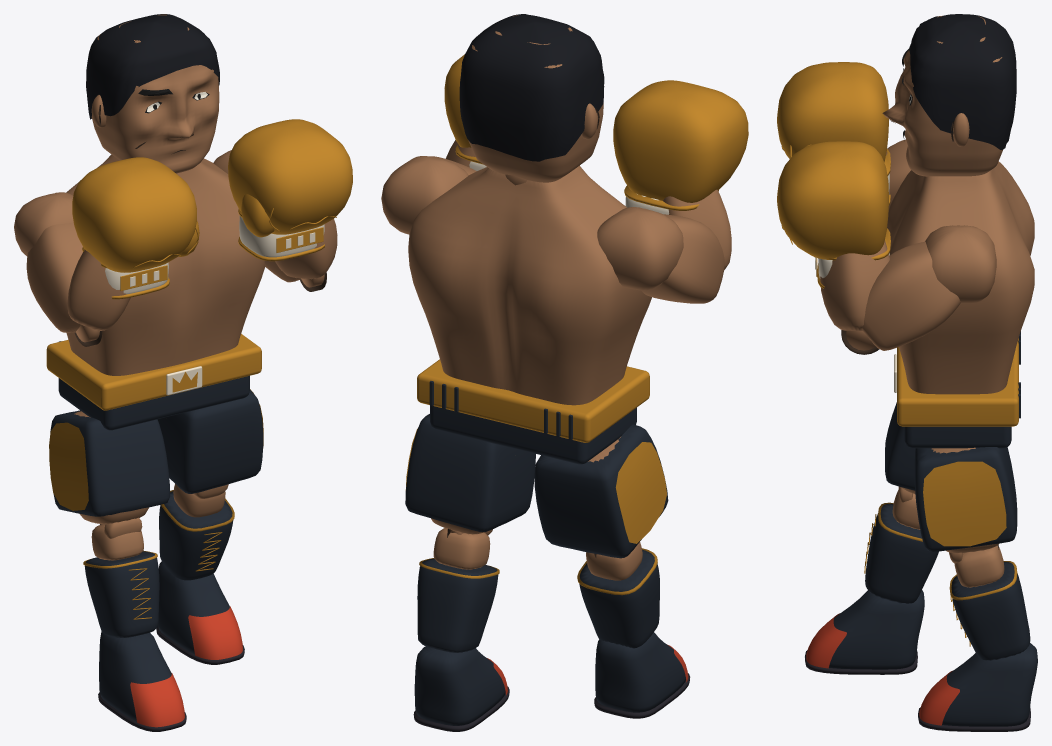
File: brick.glb
The picture shows the model from 3 angles, left to right: view 1: azimuth 30°, elevation 25°; view 2: azimuth 150°, elevation 25°; view 3: azimuth 270°, elevation 25°; orthographic projection. The views are drawn at different scales.
Visible parts, largest first — view 1: Mould assembly Body.002 Bram bronze plastic, Mould assembly GloveR.002 Bram ochre gloves, Mould assembly GloveL.002 Bram ochre gloves, Mould assembly Head.002 Bram bronze plastic, Mould assembly Head.002 Black lacquered curls, Mould assembly LegUpperR.002 Charcoal trunks, Mould assembly LegUpperL.002 Charcoal trunks, Mould assembly Hips.002 Bram ochre gloves, Mould assembly LegLowerL.002 Charcoal trunks, Mould assembly LegLowerR.002 Charcoal trunks, Mould assembly ArmUpperL.002 Bram bronze plastic, Mould assembly FootL.002 Charcoal trunks (+15 smaller); view 2: Mould assembly Body.002 Bram bronze plastic, Mould assembly Head.002 Black lacquered curls, Mould assembly GloveL.002 Bram ochre gloves, Mould assembly LegUpperR.002 Charcoal trunks, Mould assembly LegUpperL.002 Charcoal trunks, Mould assembly Hips.002 Bram ochre gloves, Mould assembly LegLowerR.002 Charcoal trunks, Mould assembly FootR.002 Charcoal trunks, Mould assembly FootL.002 Charcoal trunks, Mould assembly Hips.002 Charcoal trunks, Mould assembly LegLowerL.002 Charcoal trunks, Mould assembly ArmUpperL.002 Bram bronze plastic (+8 smaller); view 3: Mould assembly Body.002 Bram bronze plastic, Mould assembly GloveR.002 Bram ochre gloves, Mould assembly Head.002 Black lacquered curls, Mould assembly GloveL.002 Bram ochre gloves, Mould assembly ArmUpperR.002 Bram bronze plastic, Mould assembly LegUpperR.002 Bram ochre gloves, Mould assembly FootR.002 Charcoal trunks, Mould assembly FootL.002 Charcoal trunks, Mould assembly Head.002 Bram bronze plastic, Mould assembly LegLowerR.002 Charcoal trunks, Mould assembly Hips.002 Bram ochre gloves, Mould assembly LegLowerL.002 Charcoal trunks (+12 smaller).
Boxes of the visible parts, x1,y1,x2,y2 form: Mould assembly Body.002 Bram bronze plastic: (14, 150, 265, 375); Mould assembly GloveR.002 Bram ochre gloves: (228, 119, 352, 261); Mould assembly GloveL.002 Bram ochre gloves: (72, 157, 199, 299); Mould assembly Head.002 Bram bronze plastic: (91, 14, 219, 173); Mould assembly Head.002 Black lacquered curls: (86, 14, 219, 119); Mould assembly LegUpperR.002 Charcoal trunks: (157, 390, 263, 493); Mould assembly LegUpperL.002 Charcoal trunks: (50, 410, 169, 516); Mould assembly Hips.002 Bram ochre gloves: (46, 333, 261, 410); Mould assembly LegLowerL.002 Charcoal trunks: (84, 551, 159, 637); Mould assembly LegLowerR.002 Charcoal trunks: (159, 491, 233, 580); Mould assembly ArmUpperL.002 Bram bronze plastic: (26, 223, 82, 332); Mould assembly FootL.002 Charcoal trunks: (99, 631, 171, 721); Mould assembly Body.002 Bram bronze plastic: (381, 156, 683, 405); Mould assembly Head.002 Black lacquered curls: (459, 14, 604, 161); Mould assembly GloveL.002 Bram ochre gloves: (613, 80, 748, 210); Mould assembly LegUpperR.002 Charcoal trunks: (405, 414, 535, 531); Mould assembly LegUpperL.002 Charcoal trunks: (534, 424, 668, 558); Mould assembly Hips.002 Bram ochre gloves: (417, 359, 649, 442); Mould assembly LegLowerR.002 Charcoal trunks: (417, 558, 498, 652); Mould assembly FootR.002 Charcoal trunks: (414, 646, 505, 725); Mould assembly FootL.002 Charcoal trunks: (595, 632, 685, 712); Mould assembly Hips.002 Charcoal trunks: (429, 381, 636, 464); Mould assembly LegLowerL.002 Charcoal trunks: (579, 549, 659, 648); Mould assembly ArmUpperL.002 Bram bronze plastic: (642, 214, 724, 303); Mould assembly Body.002 Bram bronze plastic: (887, 161, 1034, 394); Mould assembly GloveR.002 Bram ochre gloves: (777, 141, 890, 288); Mould assembly Head.002 Black lacquered curls: (909, 14, 1016, 149); Mould assembly GloveL.002 Bram ochre gloves: (777, 62, 890, 204); Mould assembly ArmUpperR.002 Bram bronze plastic: (862, 241, 960, 350); Mould assembly LegUpperR.002 Bram ochre gloves: (923, 461, 1006, 546); Mould assembly FootR.002 Charcoal trunks: (942, 643, 1037, 726); Mould assembly FootL.002 Charcoal trunks: (829, 590, 924, 669); Mould assembly Head.002 Bram bronze plastic: (882, 15, 1002, 176); Mould assembly LegLowerR.002 Charcoal trunks: (951, 562, 1030, 660); Mould assembly Hips.002 Bram ochre gloves: (897, 338, 1018, 426); Mould assembly LegLowerL.002 Charcoal trunks: (865, 503, 938, 603).
Size of the model in its own units: 1.21 by 2.67 by 0.9456.
